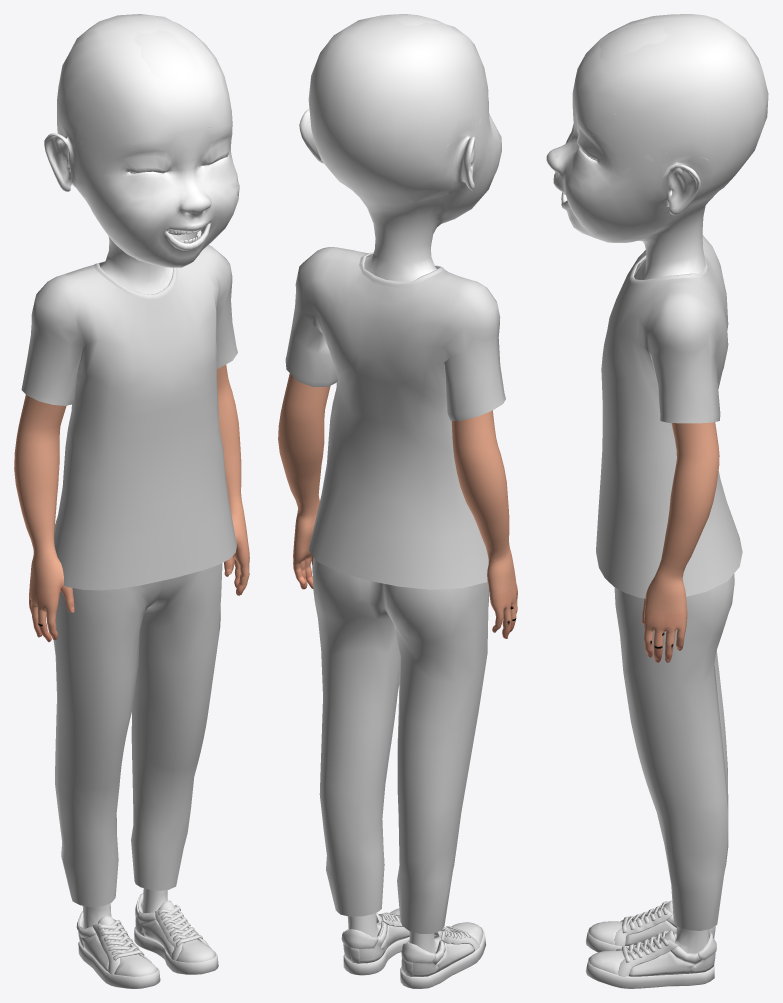
Rendered from Happy2.fbx.
The picture shows the model from 3 angles, left to right: view 1: azimuth 30°, elevation 25°; view 2: azimuth 150°, elevation 25°; view 3: azimuth 270°, elevation 25°; orthographic projection.
Visible parts, largest first — view 1: tshirt_low, body_low, pant_low, back_low, body_low.001; view 2: tshirt_low, body_low, pant_low, back_low, body_low.001; view 3: body_low, tshirt_low, pant_low, back_low, body_low.001.
Boxes of the visible parts, bbox=[...] form: tshirt_low: bbox=[21, 245, 237, 590]; body_low: bbox=[14, 14, 249, 928]; pant_low: bbox=[53, 563, 222, 907]; back_low: bbox=[76, 893, 218, 988]; body_low.001: bbox=[58, 28, 199, 145]; tshirt_low: bbox=[285, 247, 505, 589]; body_low: bbox=[278, 15, 517, 953]; pant_low: bbox=[312, 557, 489, 933]; back_low: bbox=[341, 908, 485, 988]; body_low.001: bbox=[348, 14, 481, 204]; body_low: bbox=[546, 14, 768, 953]; tshirt_low: bbox=[596, 235, 742, 598]; pant_low: bbox=[614, 574, 734, 930]; back_low: bbox=[585, 900, 716, 988]; body_low.001: bbox=[589, 21, 714, 207].
Bounding box in the file's own units: 17.45 × 70.35 × 15.05.
